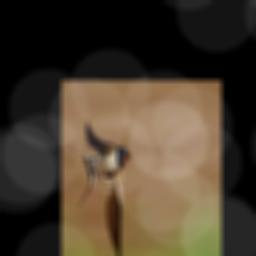Swallow: (65, 121, 130, 256)
